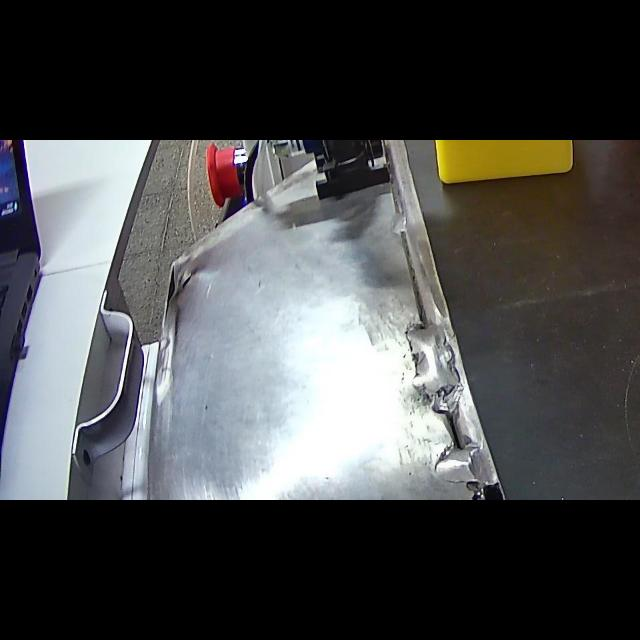yellowBox: (420, 140, 588, 196)
